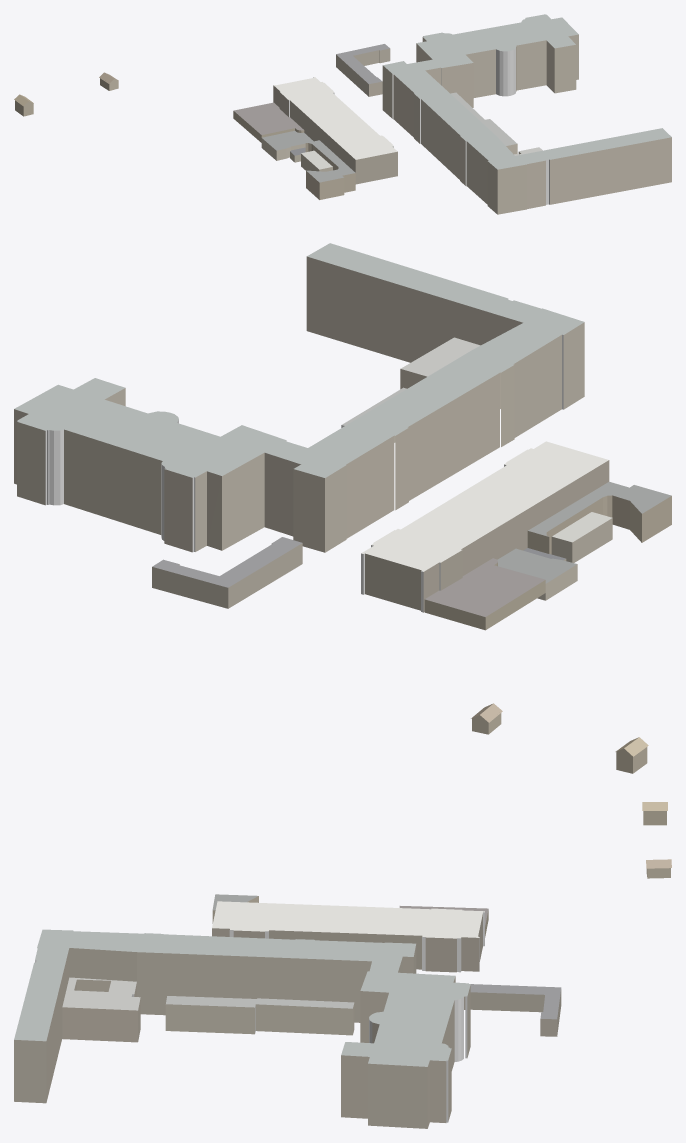
3 renders of one model, top to bottom at view 1: azimuth 30°, elevation 25°; view 2: azimuth 150°, elevation 25°; view 3: azimuth 270°, elevation 25°, orthographic. The views are drawn at different scales.
Parts seen in each view (by area): view 1: tuile; view 2: tuile; view 3: tuile.
Boxes of the visible parts, box(x1,y1,x2,y2) form: tuile: box(14, 14, 671, 214); tuile: box(14, 243, 671, 773); tuile: box(14, 802, 671, 1128).
Size of the model in its own units: 262 by 26.24 by 235.
